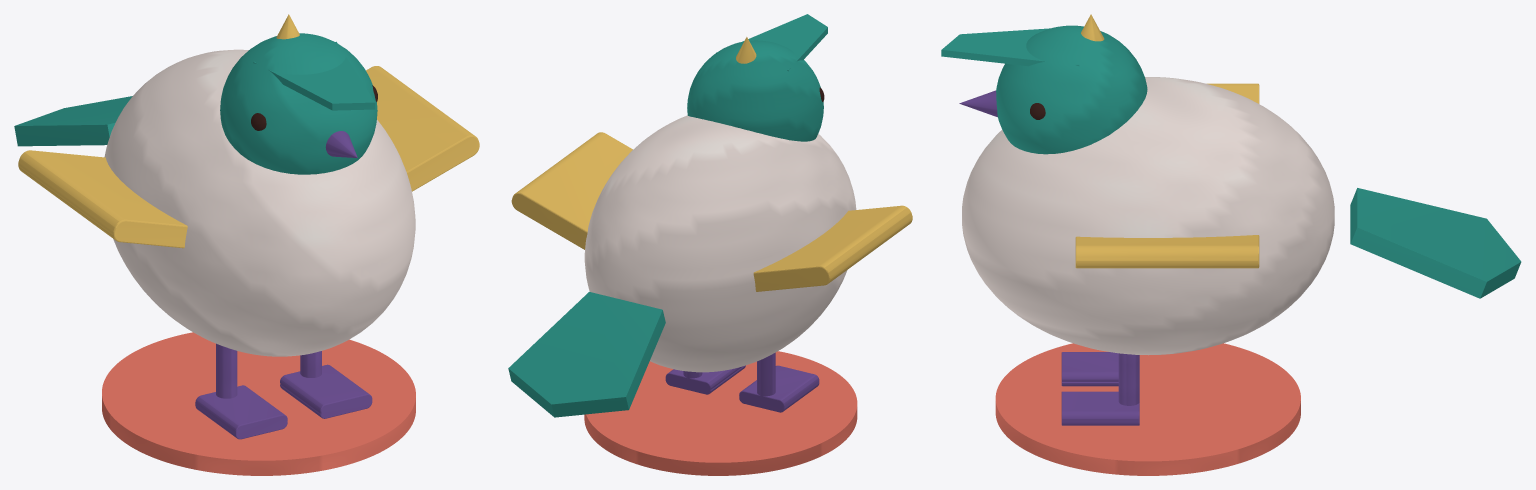
File: 0082_鸟类图鉴_几维鸟.glb
The picture shows the model from 3 angles, left to right: view 1: azimuth 30°, elevation 25°; view 2: azimuth 150°, elevation 25°; view 3: azimuth 270°, elevation 25°; orthographic projection. The views are drawn at different scales.
Parts seen in each view (by area): view 1: card_0082; view 2: card_0082; view 3: card_0082.
Boxes of the visible parts, <box> form: card_0082: <box>14,14,479,475</box>; card_0082: <box>508,14,912,475</box>; card_0082: <box>941,14,1521,475</box>.
Size of the model in its own units: 0.9201 by 1 by 1.32.
